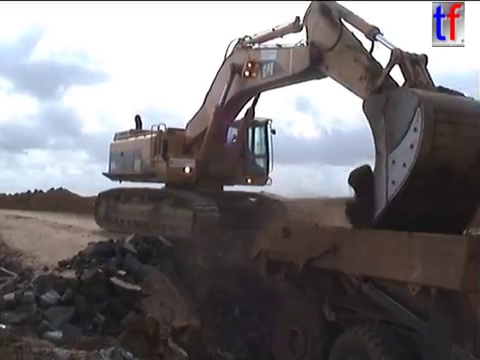excavator: (89, 1, 480, 243)
truck: (246, 195, 480, 360)
